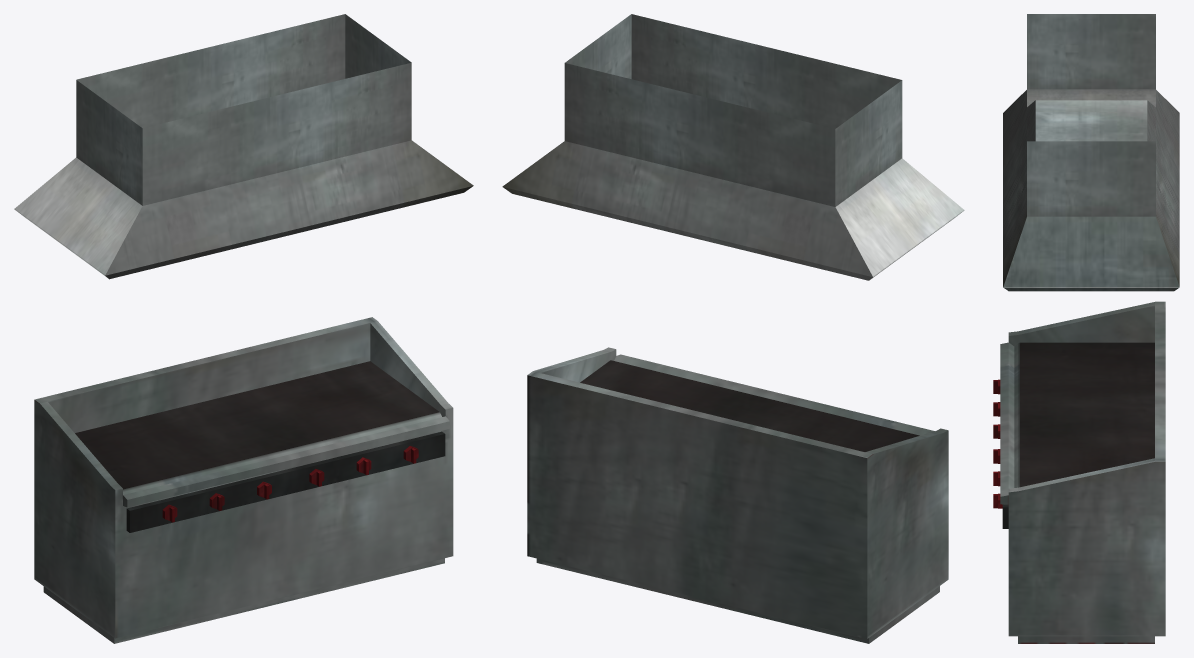
Rendered from SingleStove.glb.
3 views of the same model, side by side, from view 1: azimuth 30°, elevation 25°; view 2: azimuth 150°, elevation 25°; view 3: azimuth 270°, elevation 25° (orthographic). The views are drawn at different scales.
Visible parts, largest first — view 1: Stove, cooker_hood; view 2: Stove, cooker_hood; view 3: Stove, cooker_hood.
Part boxes in pixels (left/top/right/bottom): Stove: left=34, top=317, right=453, bottom=643; cooker_hood: left=14, top=14, right=473, bottom=279; Stove: left=527, top=347, right=948, bottom=643; cooker_hood: left=502, top=14, right=964, bottom=280; Stove: left=993, top=301, right=1165, bottom=643; cooker_hood: left=1003, top=14, right=1179, bottom=291.
Bounding box in the file's own units: 2.88 × 3.76 × 1.3.
2 materials, 2 textured.
